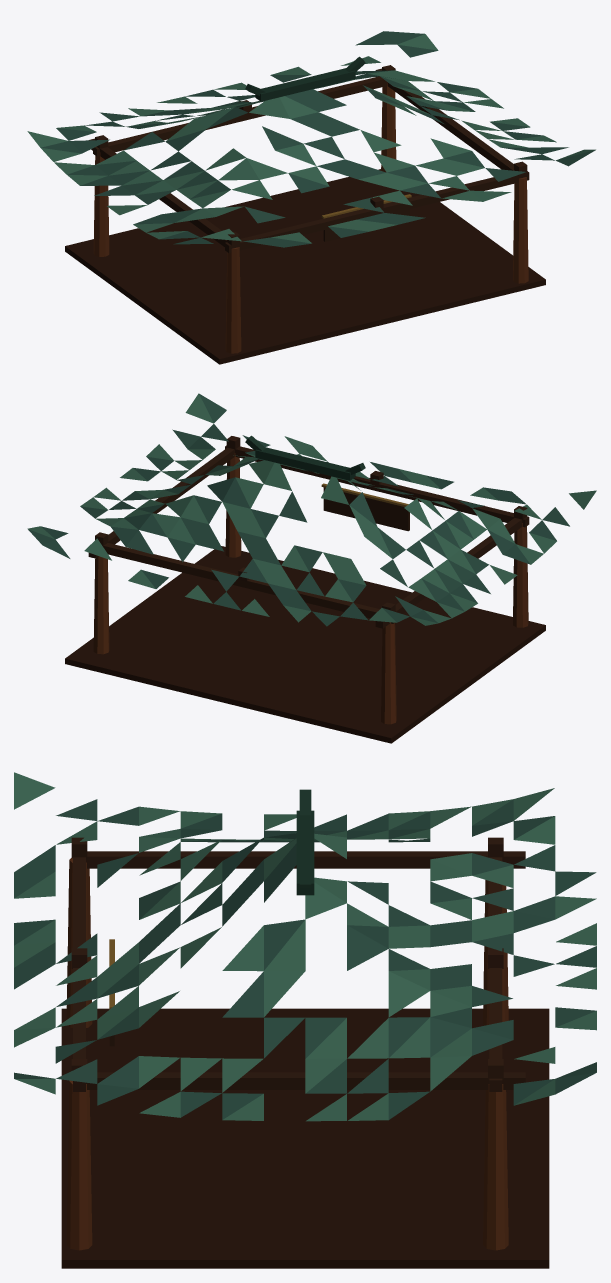
Rendered from tea-pavilion.glb.
The picture shows the model from 3 angles, top to bottom: view 1: azimuth 30°, elevation 25°; view 2: azimuth 150°, elevation 25°; view 3: azimuth 270°, elevation 25°; orthographic projection. The views are drawn at different scales.
Visible parts, largest first — view 1: tea_pavilion_body; view 2: tea_pavilion_body; view 3: tea_pavilion_body.
Boxes of the visible parts, x1,y1,x2,y2 form: tea_pavilion_body: (27, 31, 595, 364); tea_pavilion_body: (27, 393, 596, 743); tea_pavilion_body: (14, 772, 596, 1268).
Size of the model in its own units: 12.2 by 5.76 by 9.8.
